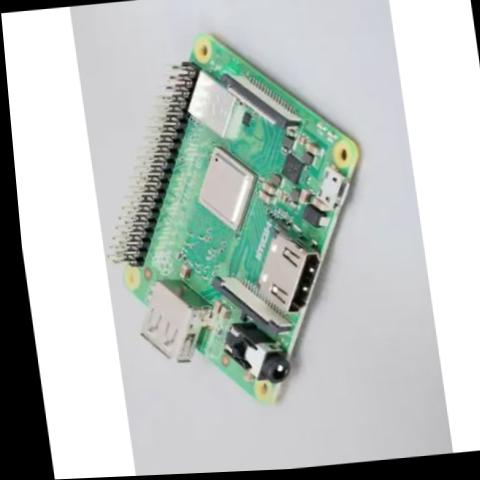Raspberry-Pi-3-Model-A-: (72, 12, 395, 425)
